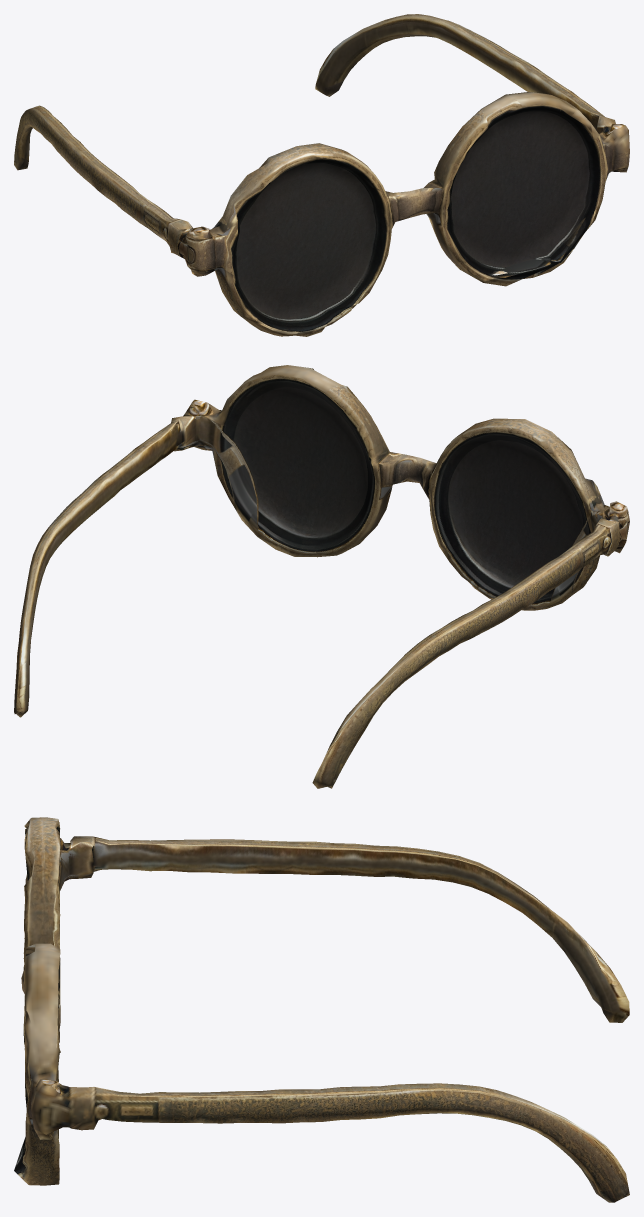
The model's file is chg_Sunglass.fbx.
3 renders of one model, top to bottom at view 1: azimuth 30°, elevation 25°; view 2: azimuth 150°, elevation 25°; view 3: azimuth 270°, elevation 25°, orthographic. The views are drawn at different scales.
Visible parts, largest first — view 1: texture_mapping; view 2: texture_mapping; view 3: texture_mapping.
Boxes of the visible parts, box(x1,y1,x2,y2) form: texture_mapping: box(14, 14, 629, 336); texture_mapping: box(14, 365, 629, 788); texture_mapping: box(14, 817, 629, 1202).
Bounding box in the file's own units: 0.9938 × 0.9873 × 0.3923.
1 material, 1 textured.
